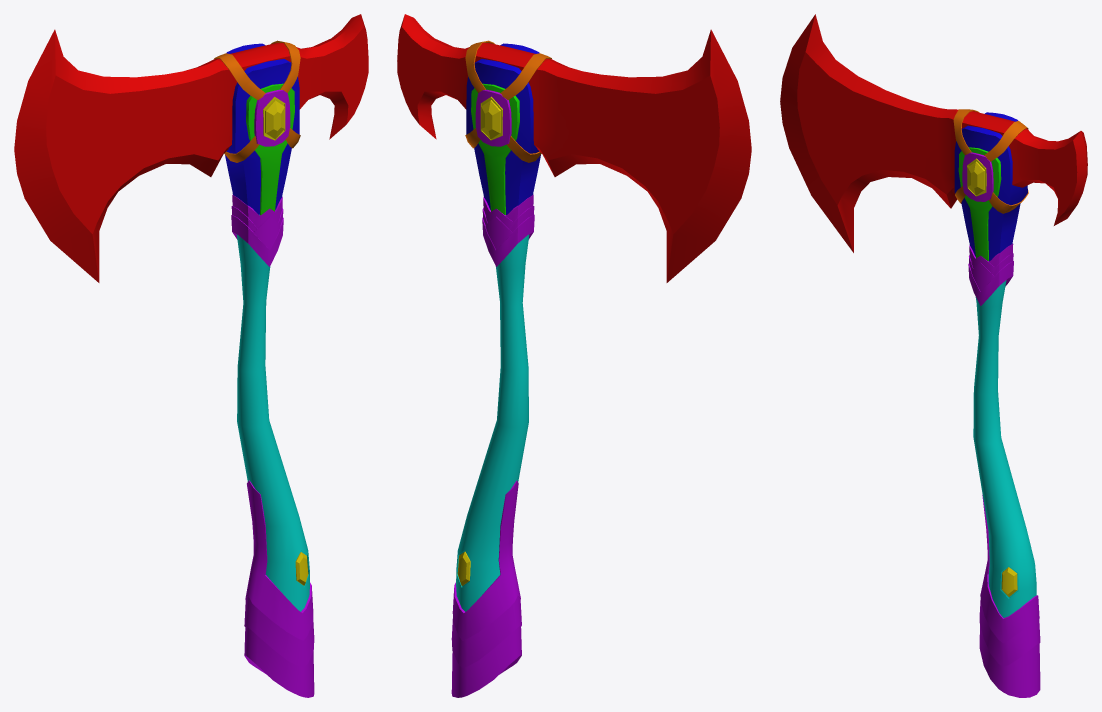
Rendered from Axe.fbx.
3 renders of one model, left to right at view 1: azimuth 30°, elevation 25°; view 2: azimuth 150°, elevation 25°; view 3: azimuth 330°, elevation 25°, orthographic. The views are drawn at different scales.
Visible parts, largest first — view 1: Axe; view 2: Axe; view 3: Axe.
Part boxes in pixels (<box>): Axe: <box>14,14,368,697</box>; Axe: <box>397,14,751,697</box>; Axe: <box>780,14,1087,697</box>.
Bounding box in the file's own units: 0.3857 × 0.7527 × 0.0748.
